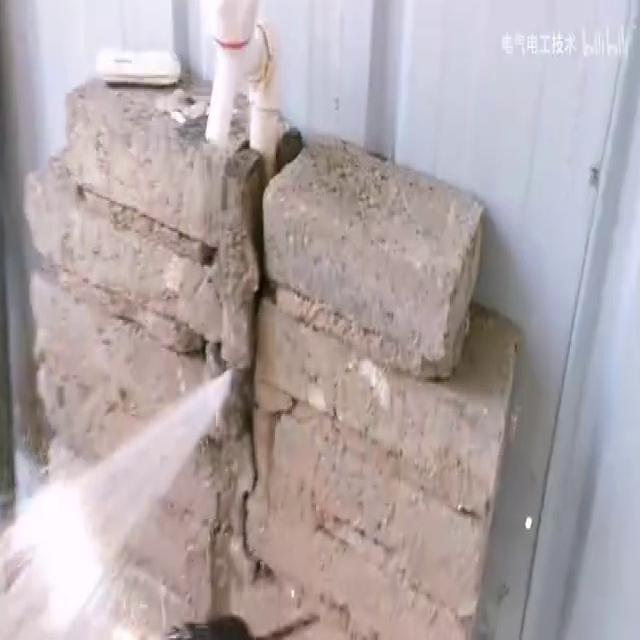leak: (0, 364, 233, 640)
